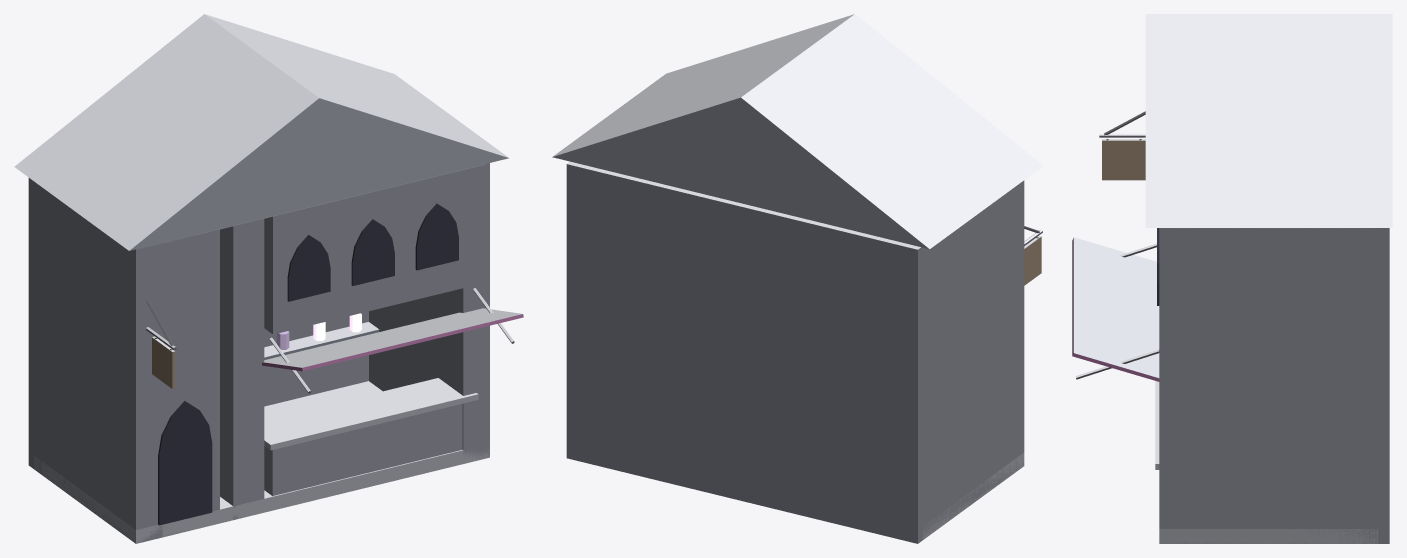
The model's file is AR_Lojinha_B.fbx.
3 renders of one model, left to right at view 1: azimuth 30°, elevation 25°; view 2: azimuth 150°, elevation 25°; view 3: azimuth 270°, elevation 25°, orthographic. The views are drawn at different scales.
Parts seen in each view (by area): view 1: AR_Lojinha_B; view 2: AR_Lojinha_B; view 3: AR_Lojinha_B.
Part boxes in pixels (x1,y1,x2,y2): AR_Lojinha_B: (14,14,523,543); AR_Lojinha_B: (552,14,1043,543); AR_Lojinha_B: (1072,14,1392,543).
Bounding box in the file's own units: 8.6 × 8.8 × 5.84.
